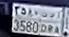0: (33, 10, 39, 33)
3: (13, 5, 19, 32)
5: (21, 6, 26, 32)
8: (26, 8, 32, 34)
A: (53, 11, 61, 35)
D: (41, 11, 47, 34)
R: (49, 11, 54, 34)
